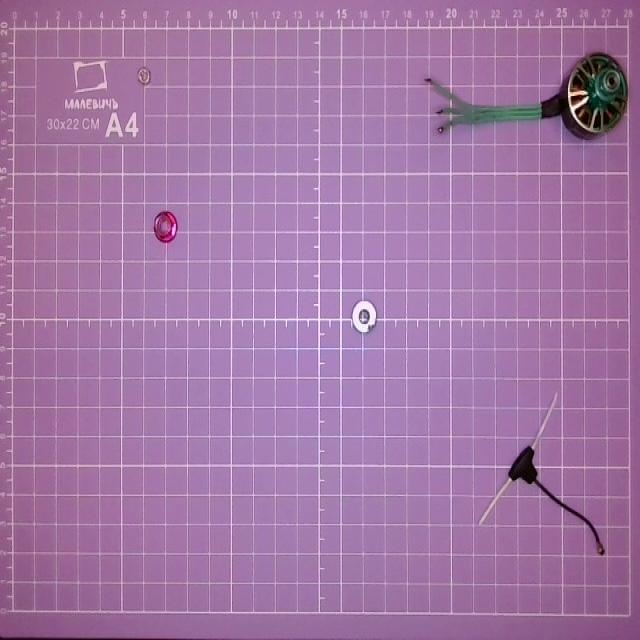antenna: (476, 393, 608, 558)
motor: (426, 51, 630, 144)
screw_M3: (134, 62, 157, 87)
screw_M5: (153, 204, 180, 244), (351, 298, 382, 332)
